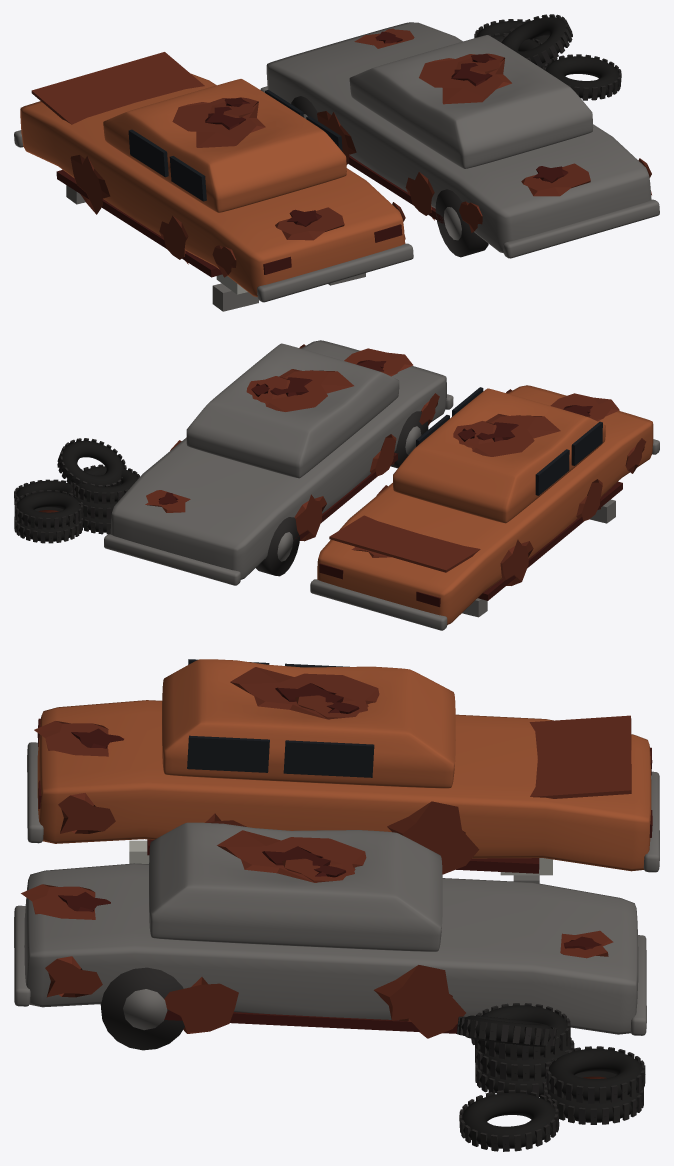
The model's file is garage_cars_b.glb.
3 renders of one model, top to bottom at view 1: azimuth 30°, elevation 25°; view 2: azimuth 150°, elevation 25°; view 3: azimuth 270°, elevation 25°, orthographic. The views are drawn at different scales.
Visible parts, largest first — view 1: body_low.001, body_low, cabin.001, cabin, bonnet, bumper_-1, bumper_-1.001, ground, rust_0.001, rust_0, slid, tyre_-14_7 (+20 smaller); view 2: body_low.001, body_low, cabin.001, cabin, bonnet, slid, short_1, bumper_1, bumper_1.001, rust_0.001, rust_0, tall_2 (+21 smaller); view 3: body_low.001, body_low, cabin.001, cabin, bonnet, ground, short_1, rust_side_0_-1.001, tyre_-14_-7, rust_0, rust_0.001, rust_side_0_-1 (+22 smaller).
Part boxes in pixels (<box>): body_low.001: <box>266,22,651,253</box>; body_low: <box>20,73,405,297</box>; cabin.001: <box>349,35,593,168</box>; cabin: <box>103,79,346,212</box>; bonnet: <box>31,52,204,124</box>; bumper_-1: <box>257,243,413,302</box>; bumper_-1.001: <box>503,199,659,258</box>; ground: <box>544,54,621,100</box>; rust_0.001: <box>419,54,511,104</box>; rust_0: <box>172,98,265,147</box>; slid: <box>499,14,572,66</box>; tyre_-14_7: <box>435,189,488,257</box>; body_low.001: <box>110,340,446,579</box>; body_low: <box>317,385,653,624</box>; cabin.001: <box>186,343,399,478</box>; cabin: <box>393,388,605,523</box>; bonnet: <box>329,515,480,572</box>; slid: <box>57,438,126,486</box>; short_1: <box>14,490,83,529</box>; bumper_1: <box>310,579,447,630</box>; bumper_1.001: <box>104,534,240,585</box>; rust_0.001: <box>252,369,353,411</box>; rust_0: <box>458,414,560,456</box>; tall_2: <box>72,464,139,503</box>; body_low.001: <box>24,863,638,1034</box>; body_low: <box>37,700,651,871</box>; cabin.001: <box>149,822,442,951</box>; cabin: <box>162,659,455,788</box>; bonnet: <box>529,715,631,798</box>; ground: <box>459,1090,559,1151</box>; short_1: <box>546,1046,645,1103</box>; rust_side_0_-1.001: <box>374,965,465,1038</box>; tyre_-14_-7: <box>100,967,184,1050</box>; rust_0: <box>230,667,379,719</box>; rust_0.001: <box>217,830,366,882</box>; rust_side_0_-1: <box>387,801,479,874</box>.
Size of the model in its own units: 6.16 by 1.59 by 4.94.
